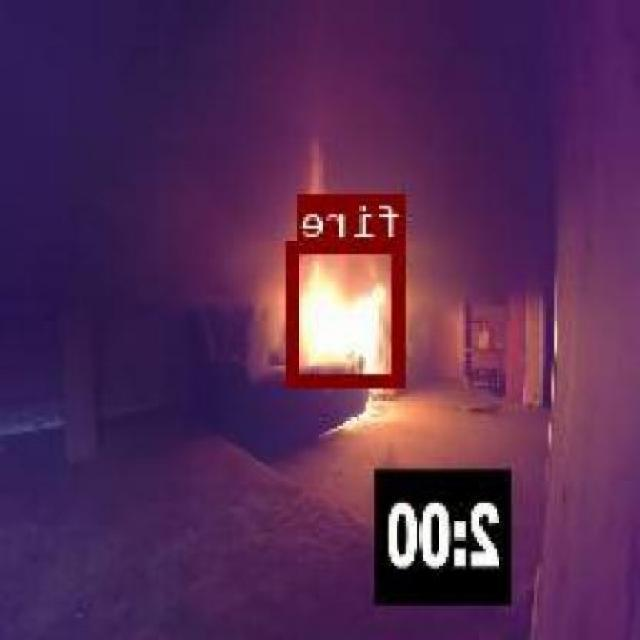Fire: (290, 240, 407, 383)
